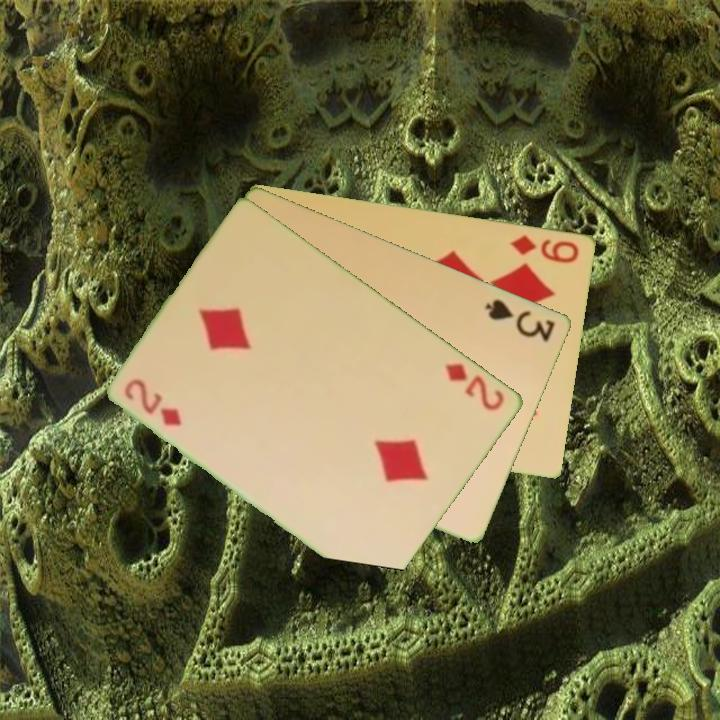2d: (442, 359, 508, 414), (121, 375, 186, 429)
3s: (482, 295, 559, 345)
9d: (507, 231, 582, 266)
